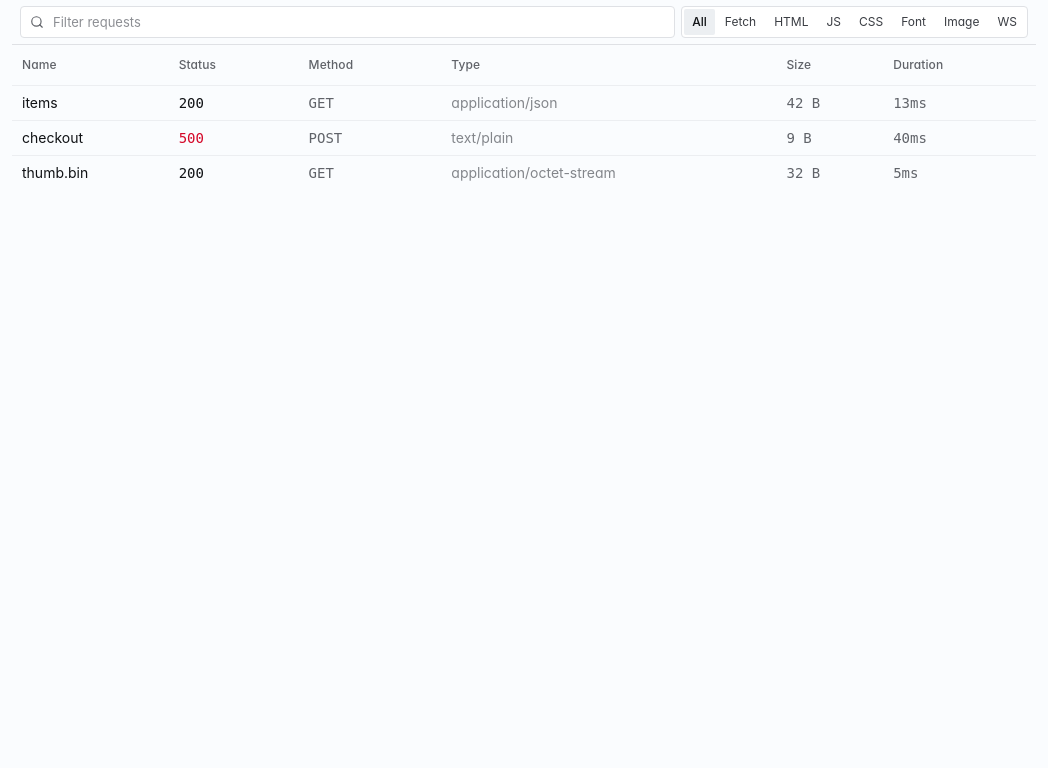
NetworkTab › never fetches a small non-text response body as text (mime, not size, decides text-eligibility)
This screenshot has width=1048, height=768.
Click the button "thumb.bin" at (90, 172), box [22, 166, 159, 180]
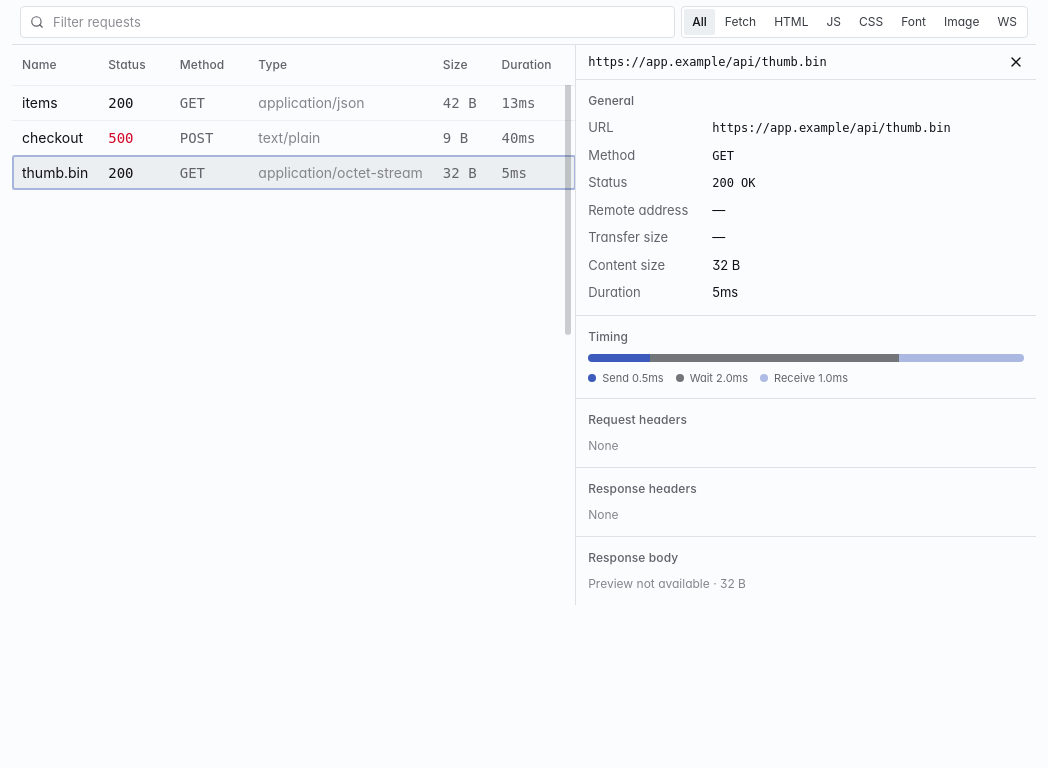
Check: the text "Preview not available · 32 B" is shown, box [588, 576, 746, 591]
